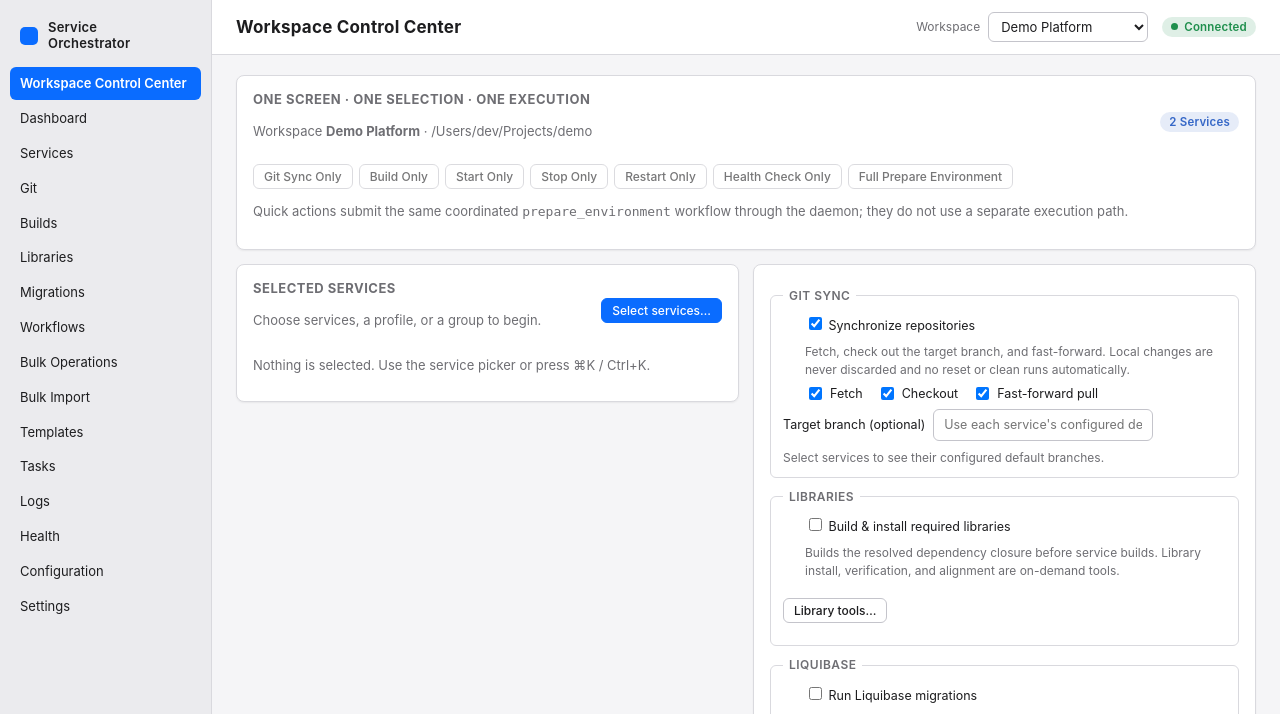
control center selection › applies a multi-selection of services
Expected: the element named "Service selection" is shown, [236,264,739,402]
Click the button "Select services…" at (662, 311), box [601,298,722,324]
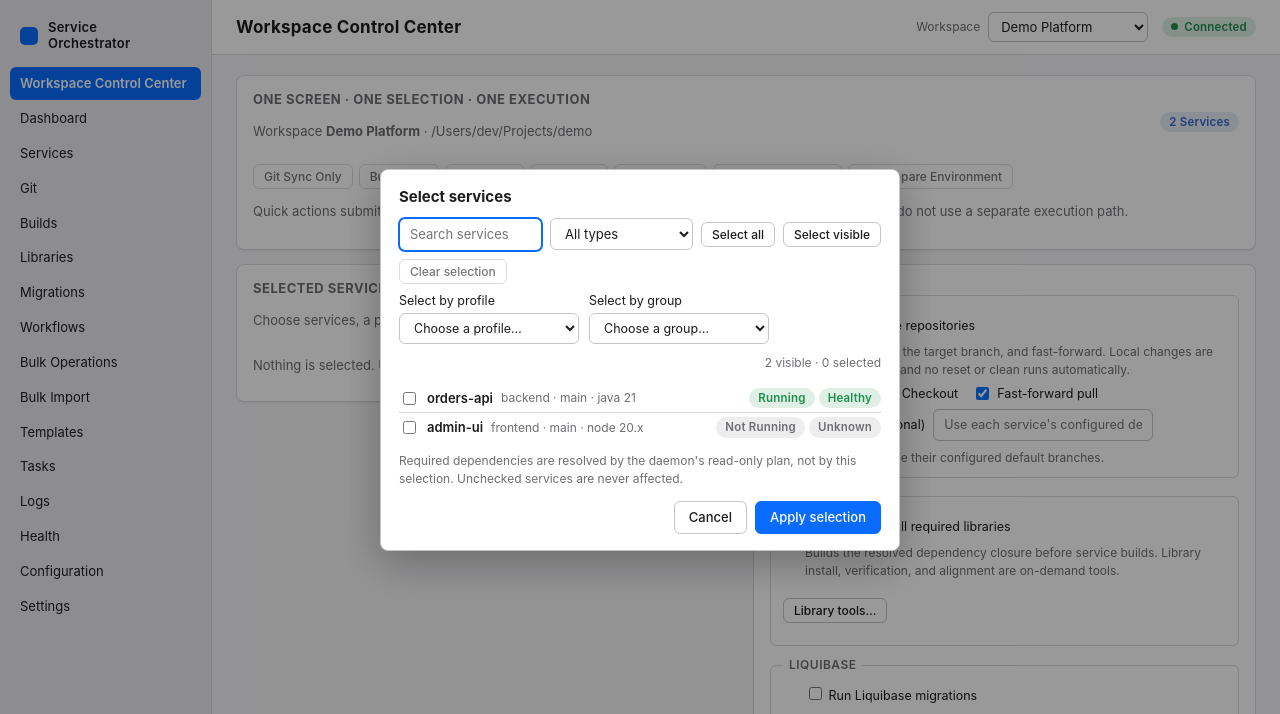
Click the checkbox named "Select orders-api" at (410, 398), box [403,392,416,405]
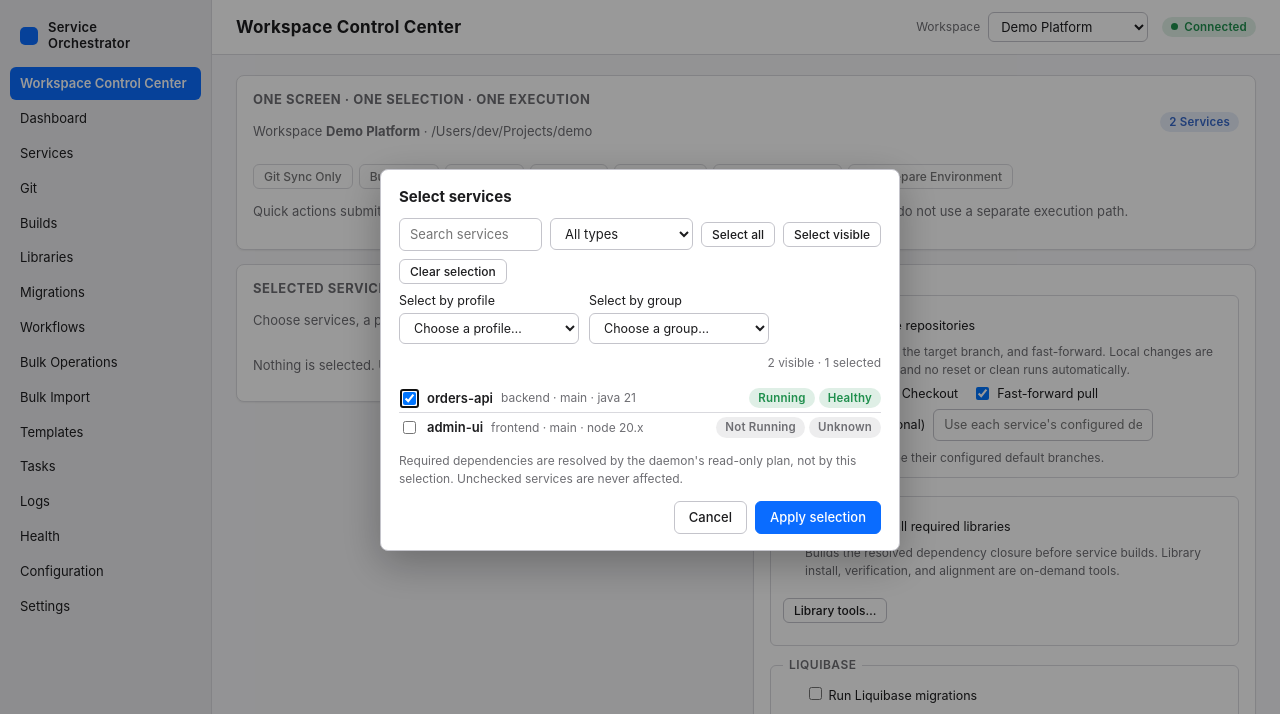
Click the checkbox named "Select admin-ui" at (410, 428), box [403,421,416,434]
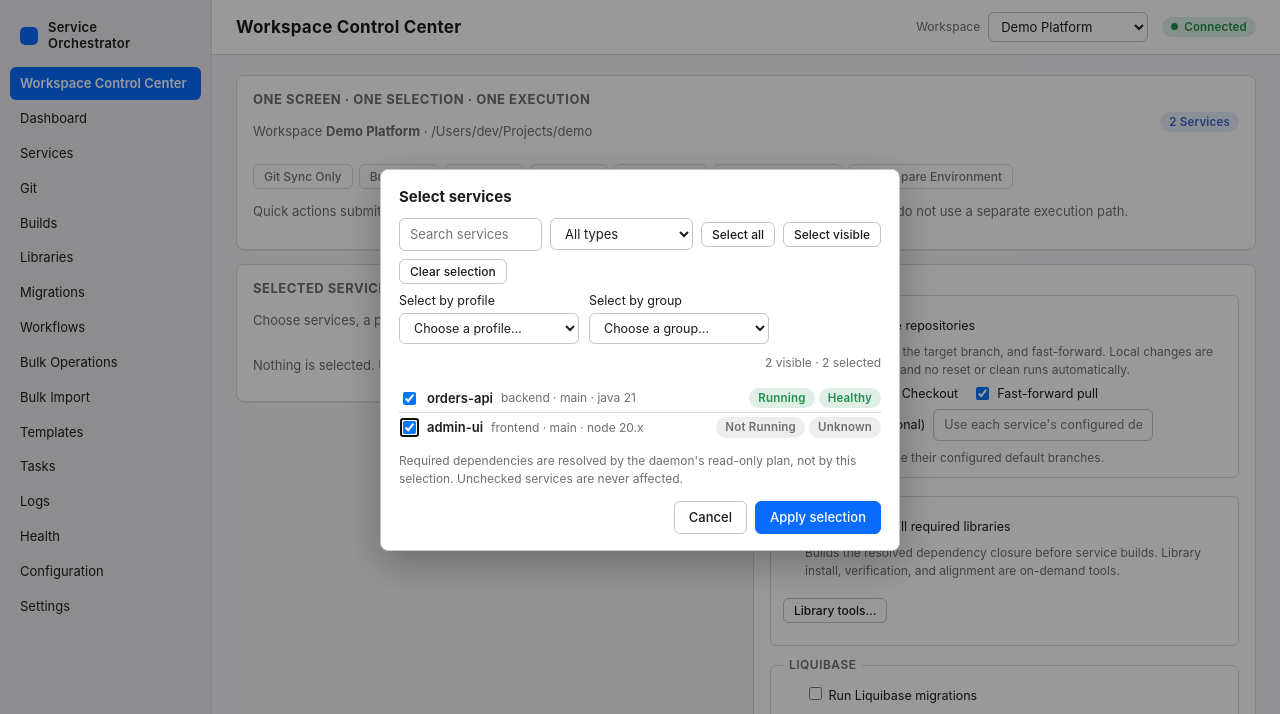
Click the button "Apply selection" at (818, 517), box [755,501,881,534]
(page scrolled)
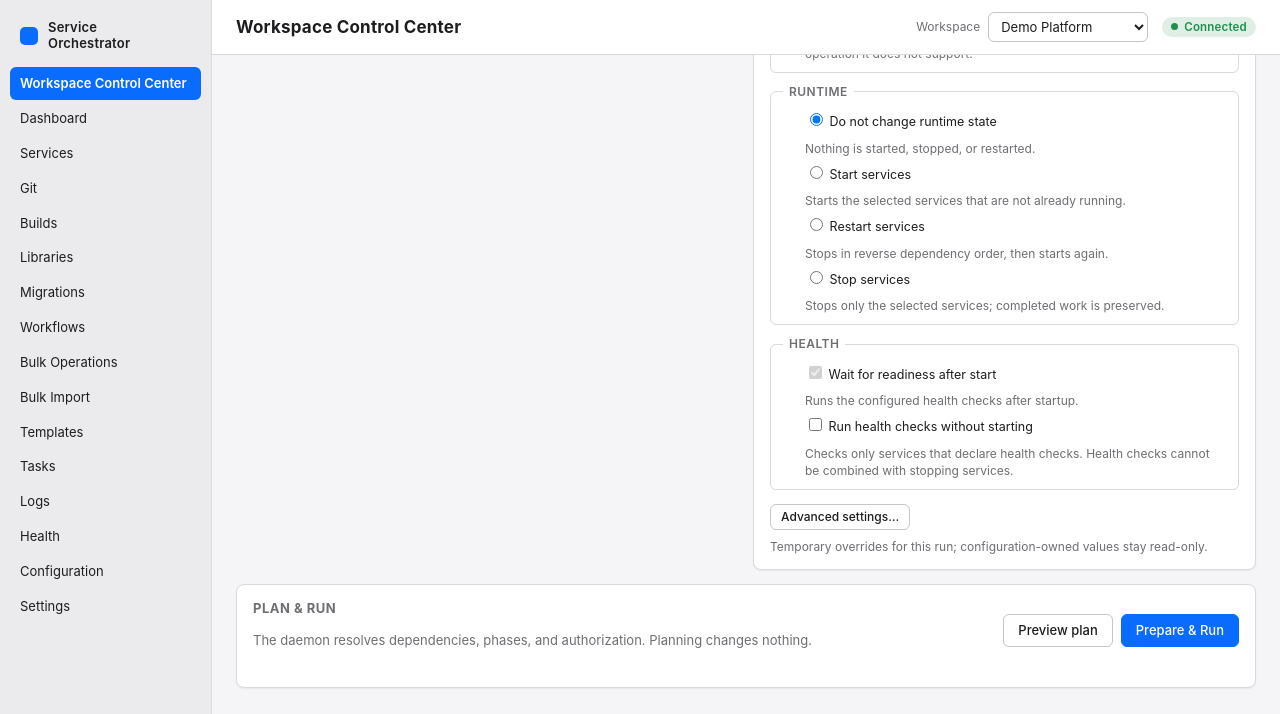
Expected: the button "Prepare & Run" is enabled, [1121,614,1239,647]
